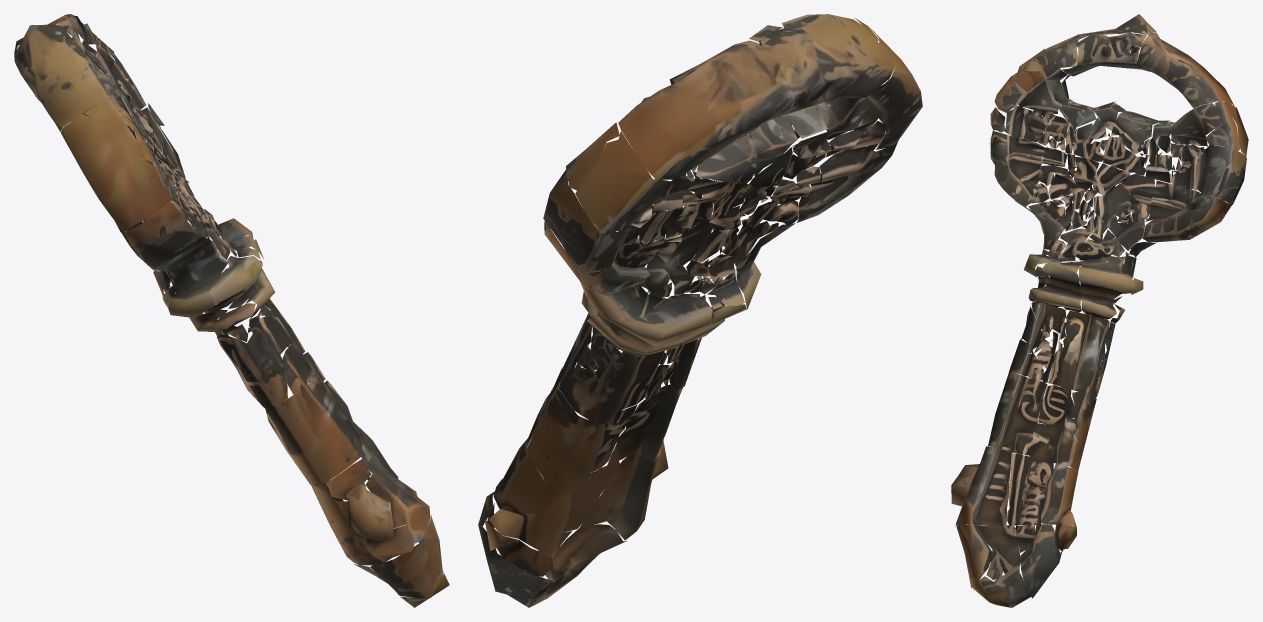
The model's file is prop_vaelor_key_LOD1.glb.
3 renders of one model, left to right at view 1: azimuth 30°, elevation 25°; view 2: azimuth 150°, elevation 25°; view 3: azimuth 270°, elevation 25°, orthographic. The views are drawn at different scales.
Visible parts, largest first — view 1: tripo_node_fc8d93ac-b99c-4fb0-929b-ac9bd457dcb8; view 2: tripo_node_fc8d93ac-b99c-4fb0-929b-ac9bd457dcb8; view 3: tripo_node_fc8d93ac-b99c-4fb0-929b-ac9bd457dcb8.
Boxes of the visible parts, x1=… form: tripo_node_fc8d93ac-b99c-4fb0-929b-ac9bd457dcb8: x1=14, y1=14, x2=449, y2=607; tripo_node_fc8d93ac-b99c-4fb0-929b-ac9bd457dcb8: x1=478, y1=14, x2=922, y2=607; tripo_node_fc8d93ac-b99c-4fb0-929b-ac9bd457dcb8: x1=951, y1=14, x2=1248, y2=607.
Size of the model in its own units: 0.629 by 1 by 0.5696.
Materials: 1 (1 with a texture image).
